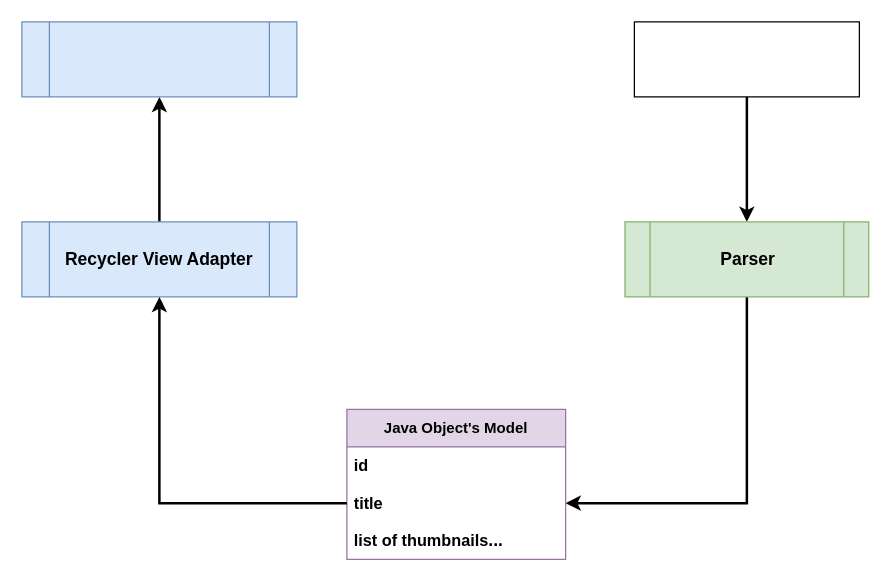
Image size: 891x581. Some labels were removed from this diagram. Each missing label, with the centre of its shape:
"GUI" goes at point 159,59.
"Response (JSON)" goes at point 746,59.
